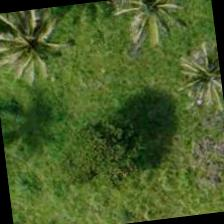Kelapa_Sawit: (0, 4, 82, 97), (158, 26, 223, 124), (107, 0, 205, 59)
